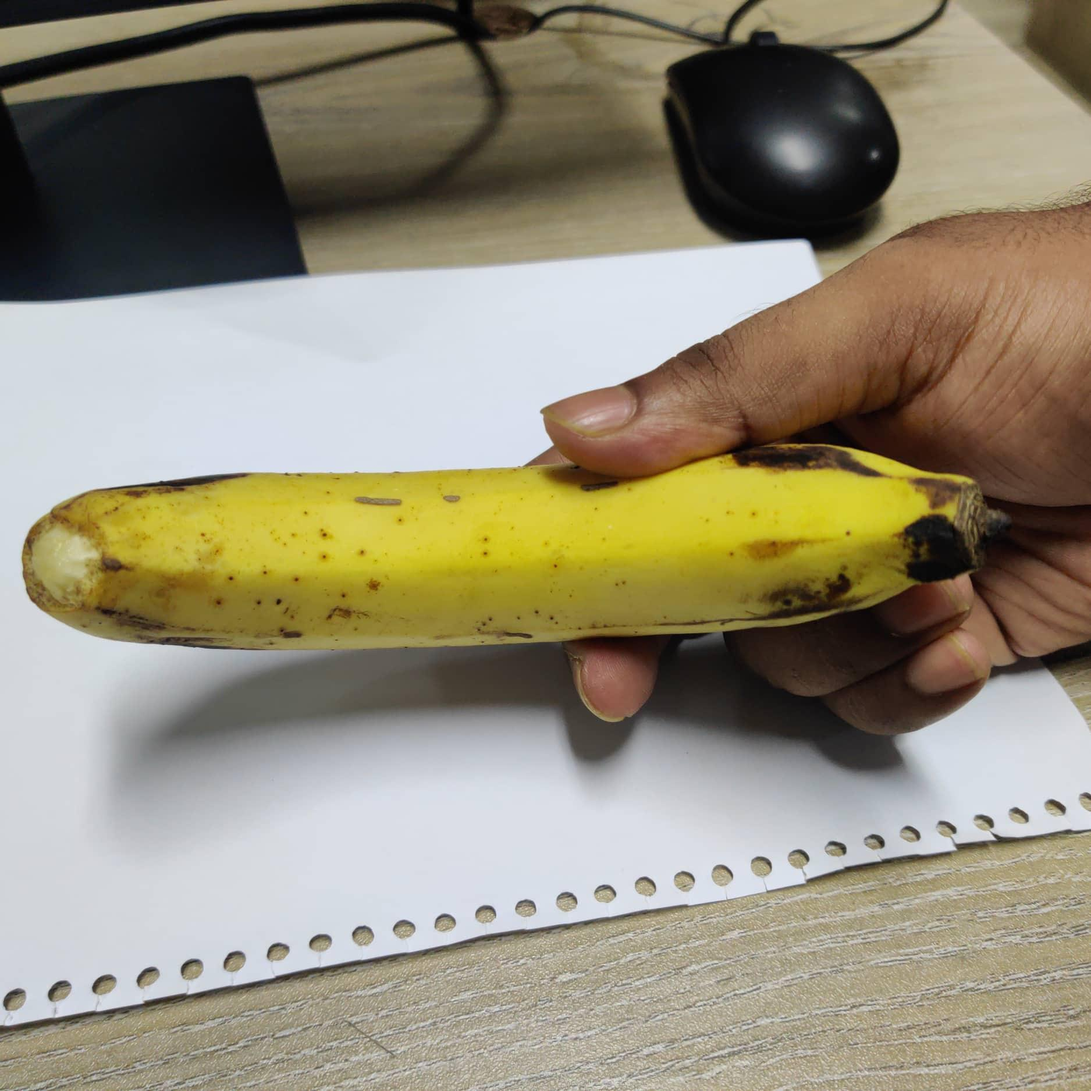Banana Ripe: (0, 406, 1058, 796)
